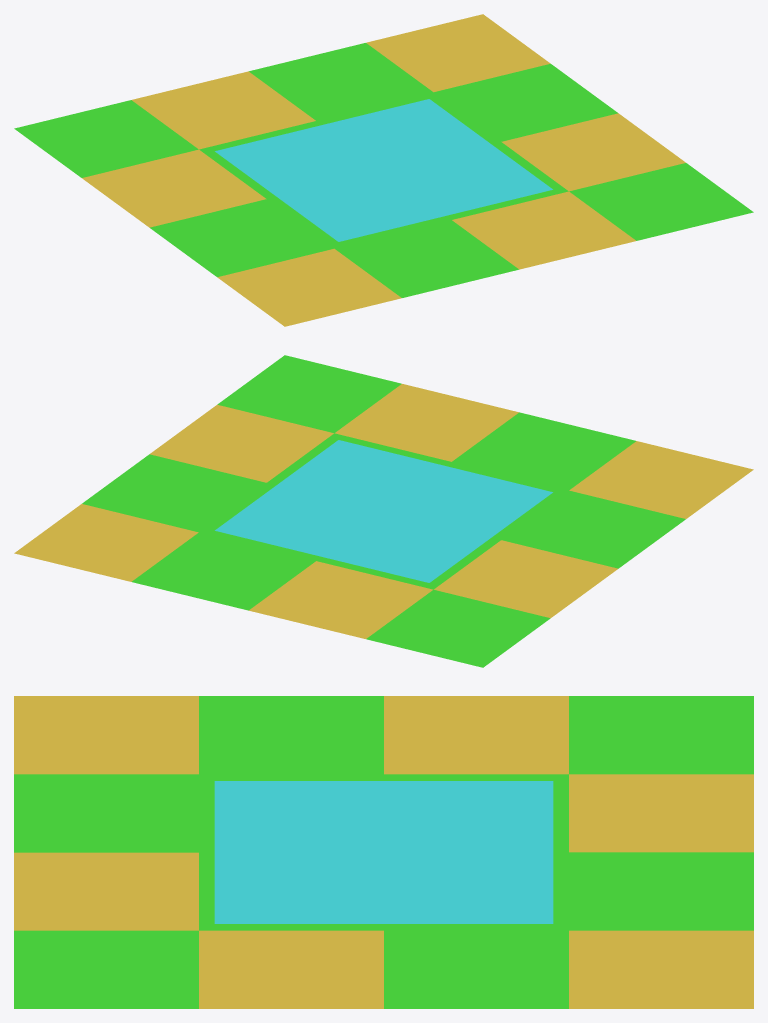
File: Floor_04_B.fbx
The picture shows the model from 3 angles, top to bottom: view 1: azimuth 30°, elevation 25°; view 2: azimuth 150°, elevation 25°; view 3: azimuth 270°, elevation 25°; orthographic projection. The views are drawn at different scales.
Visible parts, largest first — view 1: Floor_04_B; view 2: Floor_04_B; view 3: Floor_04_B.
Part boxes in pixels (x1,y1,x2,y2): Floor_04_B: (14, 14, 753, 326); Floor_04_B: (14, 355, 753, 667); Floor_04_B: (14, 696, 753, 1008).
Bounding box in the file's own units: 457 × 2e-05 × 457.
